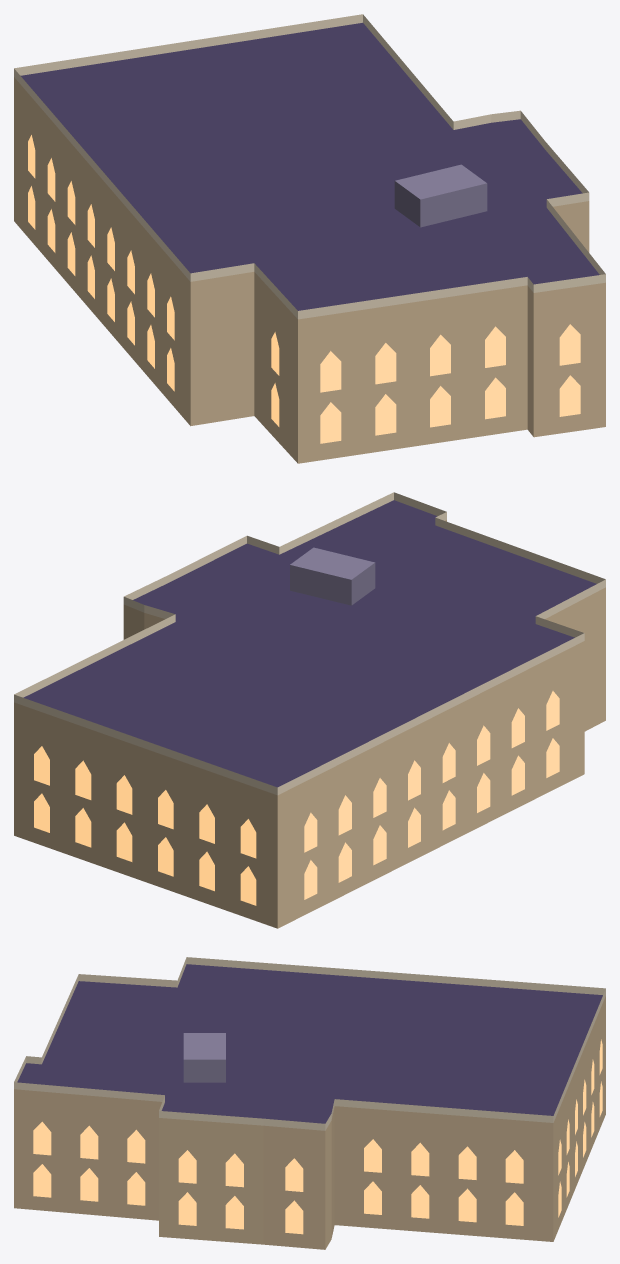
3 views of the same model, one above another, from view 1: azimuth 30°, elevation 25°; view 2: azimuth 150°, elevation 25°; view 3: azimuth 270°, elevation 25° (orthographic). The views are drawn at different scales.
Parts seen in each view (by area): view 1: campus/b-023-0; view 2: campus/b-023-0; view 3: campus/b-023-0.
Part boxes in pixels (<box>): campus/b-023-0: <box>14,14,605,463</box>; campus/b-023-0: <box>14,492,605,928</box>; campus/b-023-0: <box>14,957,605,1249</box>.
Bounding box in the file's own units: 27.95 × 11.1 × 41.92.
